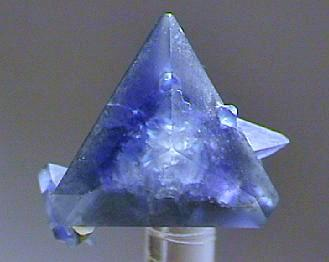benitoite: (49, 14, 279, 227)
